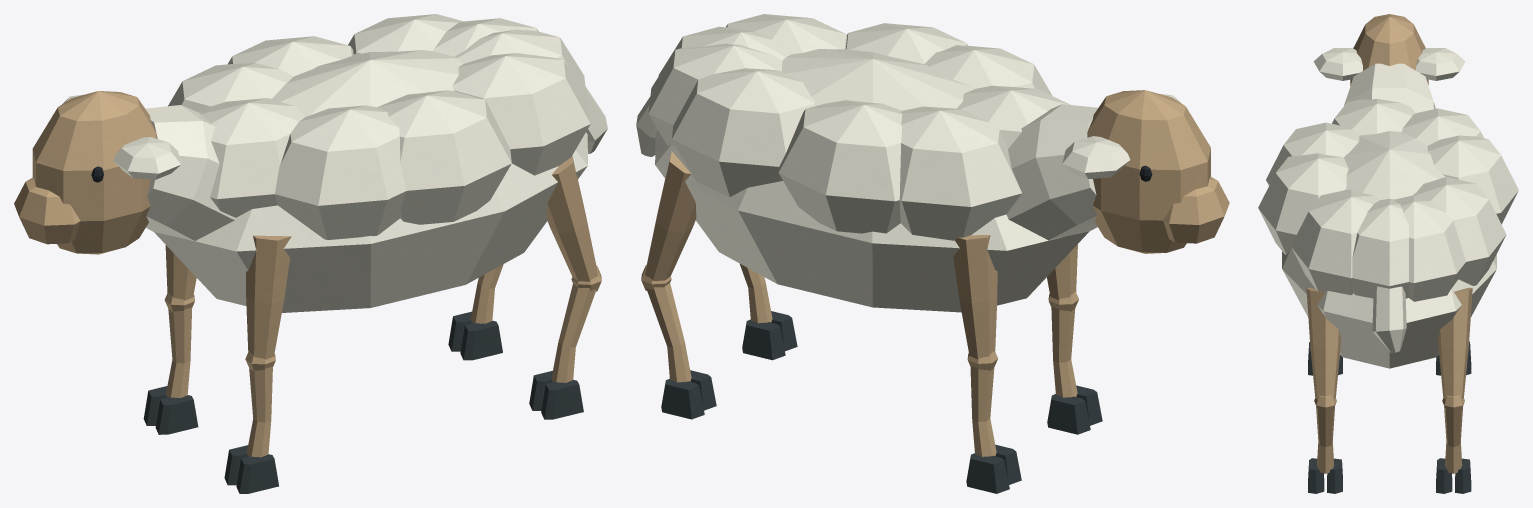
Rendered from sheep.glb.
The picture shows the model from 3 angles, left to right: view 1: azimuth 30°, elevation 25°; view 2: azimuth 150°, elevation 25°; view 3: azimuth 270°, elevation 25°; orthographic projection. The views are drawn at different scales.
Parts seen in each view (by area): view 1: Animal sculpted torso 001, Rounded wool fleece tuft 035, Distinct animal head 023, Rounded wool fleece tuft 030, Rounded wool fleece tuft 033, Rounded wool fleece tuft 032, Distinct tapered animal neck 022, Tapered articulated upper leg 002, Rounded wool fleece tuft 029, Tapered articulated upper leg 012, Rounded wool fleece tuft 031, Rounded wool fleece tuft 034 (+14 smaller); view 2: Animal sculpted torso 001, Distinct animal head 023, Rounded wool fleece tuft 034, Rounded wool fleece tuft 029, Rounded wool fleece tuft 031, Distinct tapered animal neck 022, Rounded wool fleece tuft 036, Tapered articulated upper leg 007, Tapered articulated upper leg 017, Rounded wool fleece tuft 035, Rounded wool fleece tuft 032, Rounded wool fleece tuft 030 (+14 smaller); view 3: Animal sculpted torso 001, Rounded wool fleece tuft 033, Rounded wool fleece tuft 030, Rounded wool fleece tuft 036, Rounded wool fleece tuft 031, Rounded wool fleece tuft 028, Rounded wool fleece tuft 034, Distinct animal head 023, Distinct tapered animal neck 022, Tapered articulated upper leg 017, Tapered articulated upper leg 012, Rounded wool fleece tuft 035 (+13 smaller).
Boxes of the visible parts, x1,y1,x2,y2 form: Animal sculpted torso 001: (154, 50, 587, 312); Rounded wool fleece tuft 035: (275, 105, 406, 239); Distinct animal head 023: (32, 91, 156, 254); Rounded wool fleece tuft 030: (377, 90, 511, 224); Rounded wool fleece tuft 033: (452, 53, 590, 175); Rounded wool fleece tuft 032: (199, 98, 304, 217); Distinct tapered animal neck 022: (145, 105, 235, 240); Tapered articulated upper leg 002: (246, 235, 291, 359); Rounded wool fleece tuft 029: (168, 63, 293, 112); Tapered articulated upper leg 012: (546, 155, 598, 281); Rounded wool fleece tuft 031: (348, 14, 463, 54); Rounded wool fleece tuft 034: (228, 36, 353, 76); Animal sculpted torso 001: (655, 48, 1088, 312); Distinct animal head 023: (1087, 90, 1210, 253); Rounded wool fleece tuft 034: (778, 100, 902, 233); Rounded wool fleece tuft 029: (899, 106, 1021, 240); Rounded wool fleece tuft 031: (672, 68, 816, 196); Distinct tapered animal neck 022: (1006, 104, 1097, 240); Rounded wool fleece tuft 036: (648, 43, 782, 146); Tapered articulated upper leg 007: (953, 235, 997, 359); Tapered articulated upper leg 017: (645, 151, 696, 280); Rounded wool fleece tuft 035: (924, 45, 1052, 95); Rounded wool fleece tuft 032: (957, 85, 1070, 148); Rounded wool fleece tuft 030: (846, 23, 967, 63); Animal sculpted torso 001: (1282, 131, 1496, 368); Rounded wool fleece tuft 033: (1291, 189, 1379, 295); Rounded wool fleece tuft 030: (1258, 153, 1348, 254); Rounded wool fleece tuft 036: (1394, 195, 1465, 301); Rounded wool fleece tuft 031: (1413, 177, 1506, 285); Rounded wool fleece tuft 028: (1352, 198, 1408, 298); Rounded wool fleece tuft 034: (1427, 135, 1518, 224); Distinct animal head 023: (1350, 14, 1428, 85); Distinct tapered animal neck 022: (1344, 63, 1435, 112); Tapered articulated upper leg 017: (1438, 287, 1472, 399); Tapered articulated upper leg 012: (1306, 287, 1341, 399); Rounded wool fleece tuft 035: (1266, 122, 1359, 185).
Bounding box in the file's own units: 1.42 × 0.9038 × 0.6927.
Materials: 4 (4 with a texture image).
